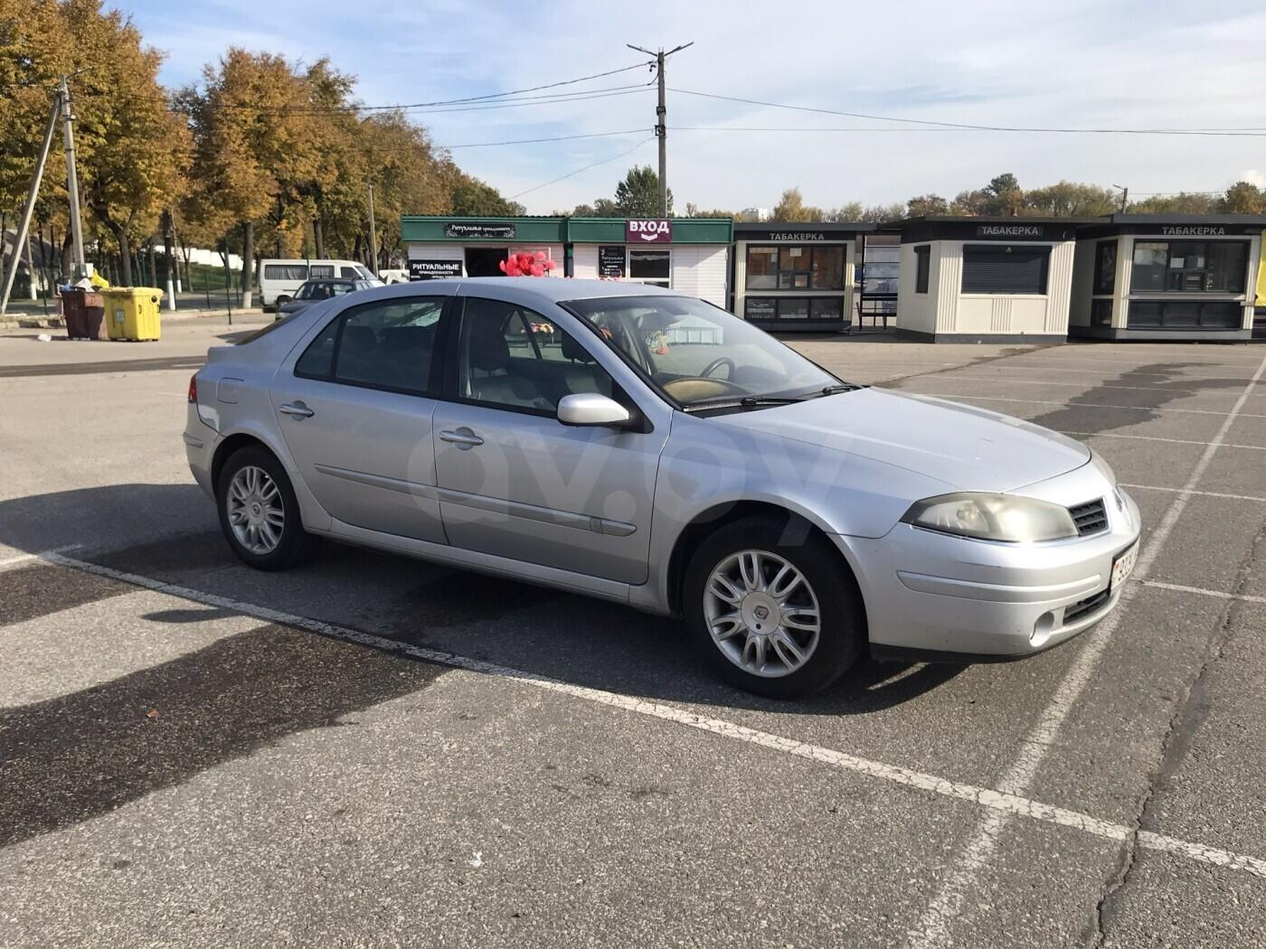Laguna_2005-2007: (183, 262, 1139, 678)
